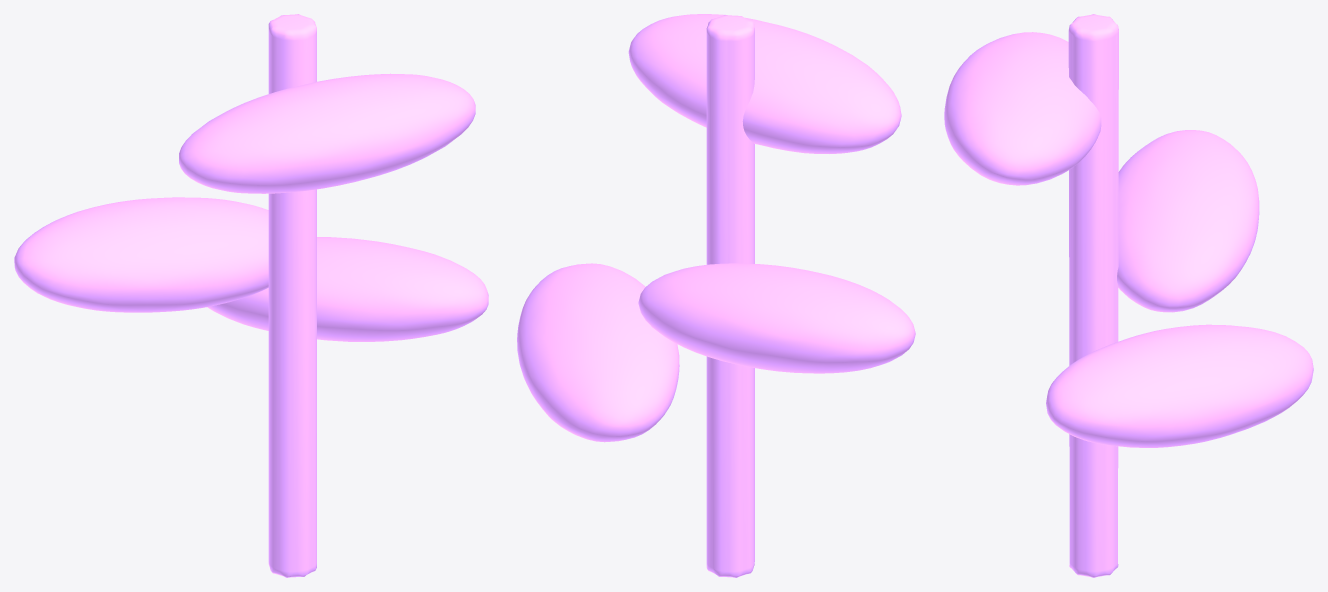
The model's file is material_herb_purple_v3.glb.
3 views of the same model, side by side, from view 1: azimuth 30°, elevation 25°; view 2: azimuth 150°, elevation 25°; view 3: azimuth 270°, elevation 25° (orthographic).
Parts seen in each view (by area): view 1: item_herb_purple_leaf2, item_herb_purple_leaf1, item_herb_purple_stem, item_herb_purple_leaf0; view 2: item_herb_purple_leaf1, item_herb_purple_stem, item_herb_purple_leaf0, item_herb_purple_leaf2; view 3: item_herb_purple_leaf0, item_herb_purple_stem, item_herb_purple_leaf1, item_herb_purple_leaf2.
Part boxes in pixels (x1,y1,x2,y2): item_herb_purple_leaf2: (179, 73, 475, 193); item_herb_purple_leaf1: (14, 197, 268, 312); item_herb_purple_stem: (268, 14, 316, 577); item_herb_purple_leaf0: (207, 237, 488, 341); item_herb_purple_leaf1: (638, 263, 915, 373); item_herb_purple_stem: (706, 15, 754, 577); item_herb_purple_leaf0: (517, 263, 679, 442); item_herb_purple_leaf2: (628, 14, 901, 153); item_herb_purple_leaf0: (1046, 324, 1313, 447); item_herb_purple_stem: (1068, 14, 1118, 577); item_herb_purple_leaf1: (1117, 130, 1259, 312); item_herb_purple_leaf2: (944, 32, 1101, 185).
Size of the model in its own units: 0.2789 by 0.35 by 0.2147.
